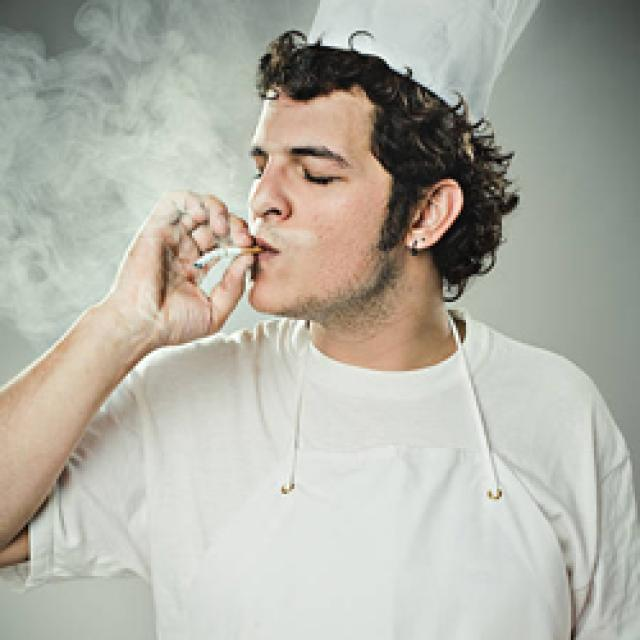Smooking: (178, 234, 272, 286)
